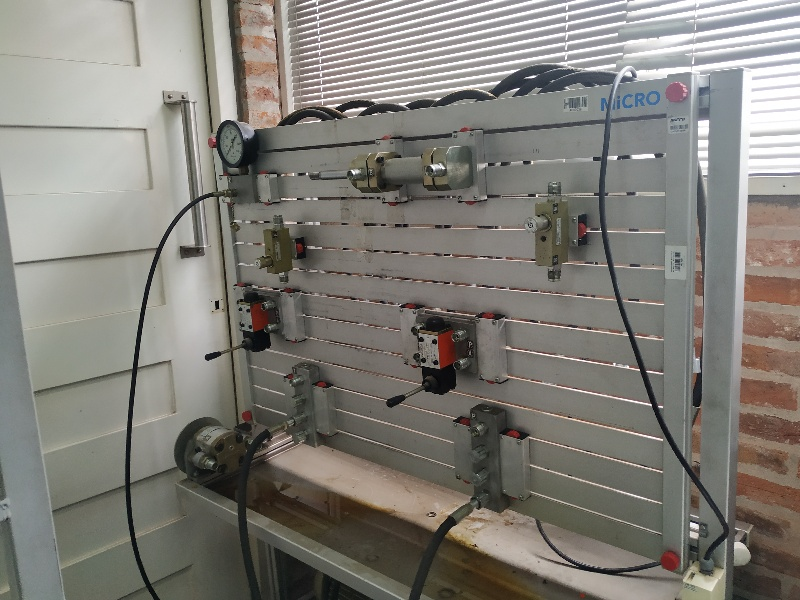Tablero 5: (218, 130, 696, 560)
